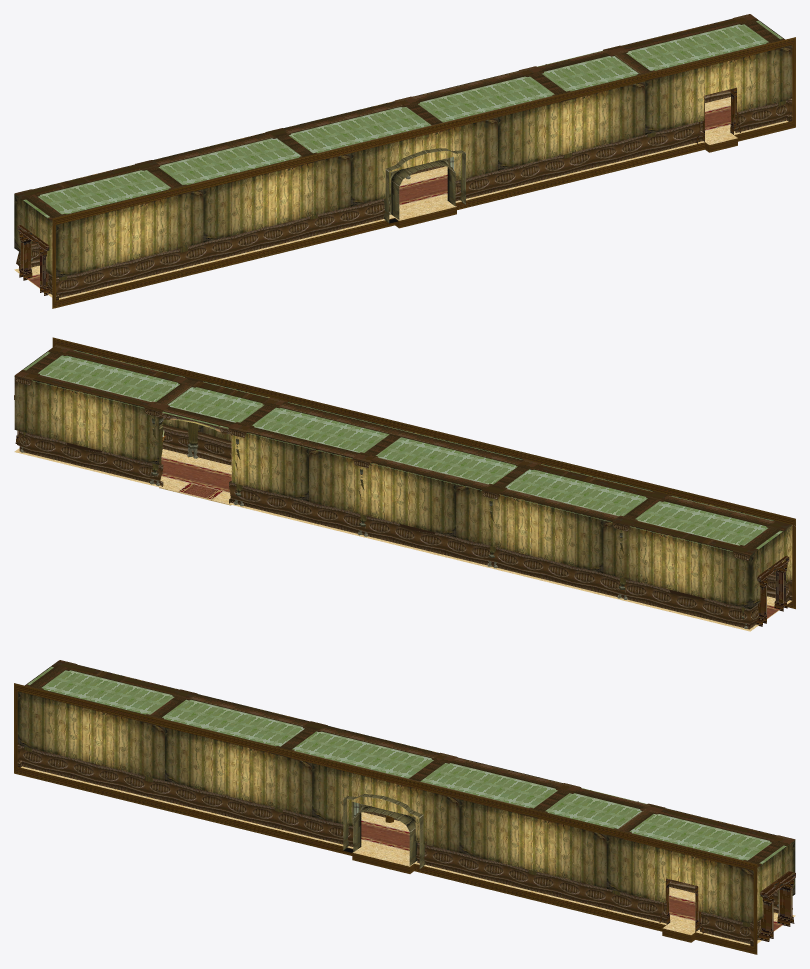
File: room_06.glb
The picture shows the model from 3 angles, top to bottom: view 1: azimuth 30°, elevation 25°; view 2: azimuth 150°, elevation 25°; view 3: azimuth 330°, elevation 25°; orthographic projection.
Parts seen in each view (by area): view 1: room_06; view 2: room_06; view 3: room_06.
Boxes of the visible parts, left/top/right/bottom form: room_06: left=14, top=14, right=795, bottom=308; room_06: left=14, top=337, right=795, bottom=631; room_06: left=14, top=660, right=795, bottom=954.
Size of the model in its own units: 5180 by 600 by 556.
21 materials, 21 textured.
